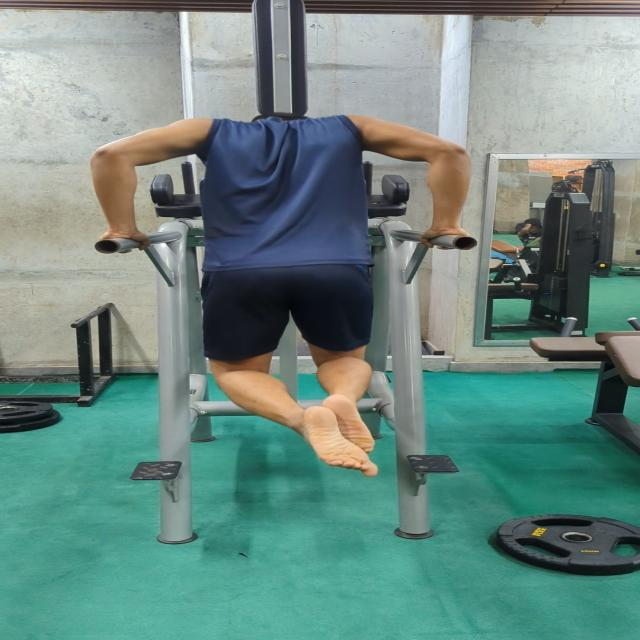Normal_Dips: (77, 105, 501, 485)
